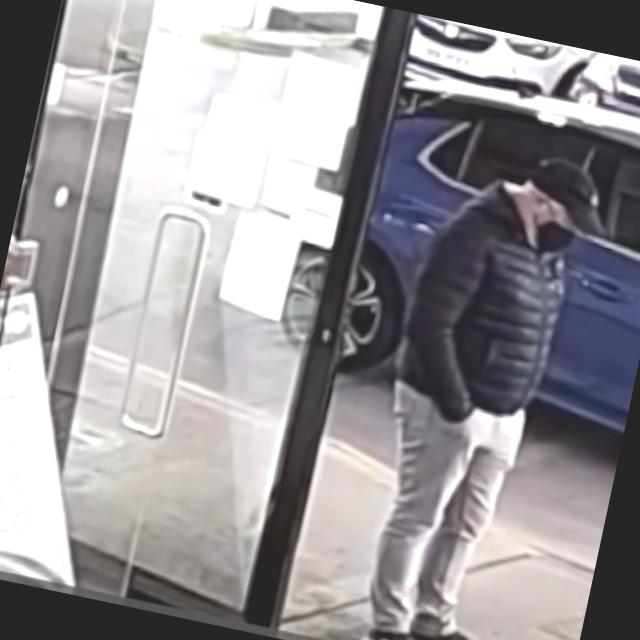person: (335, 133, 618, 640)
